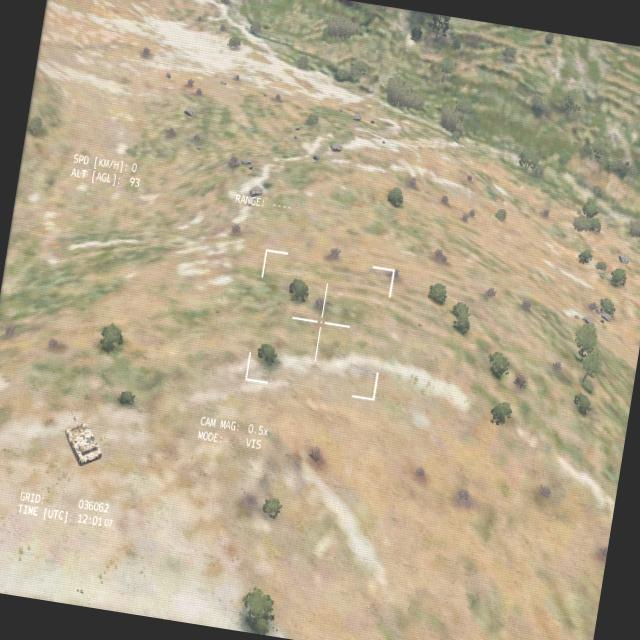tank: (59, 406, 109, 470)
